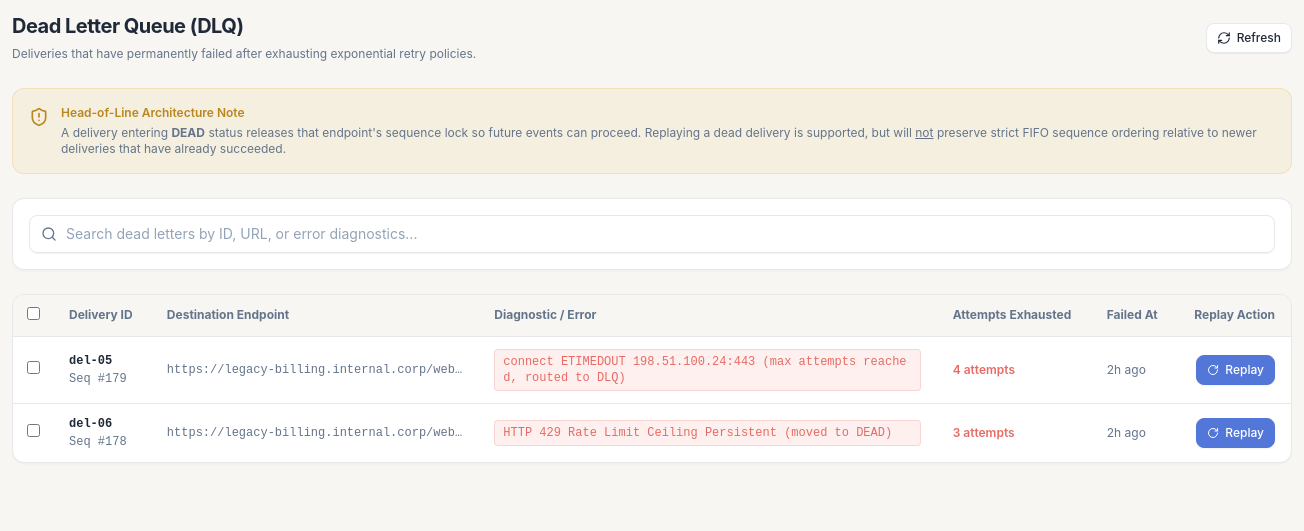
Phase 2, Task 1: Scheduling & Bulk Replay › 8. DeliveriesPage and DeadLettersPage Bulk Selection UI › renders DeadLettersPage and supports selecting all dead deliveries
The image size is (1304, 531).
Step 1. Click the checkbox named "Select all dead deliveries" → (33, 313), box [26,306,40,320]
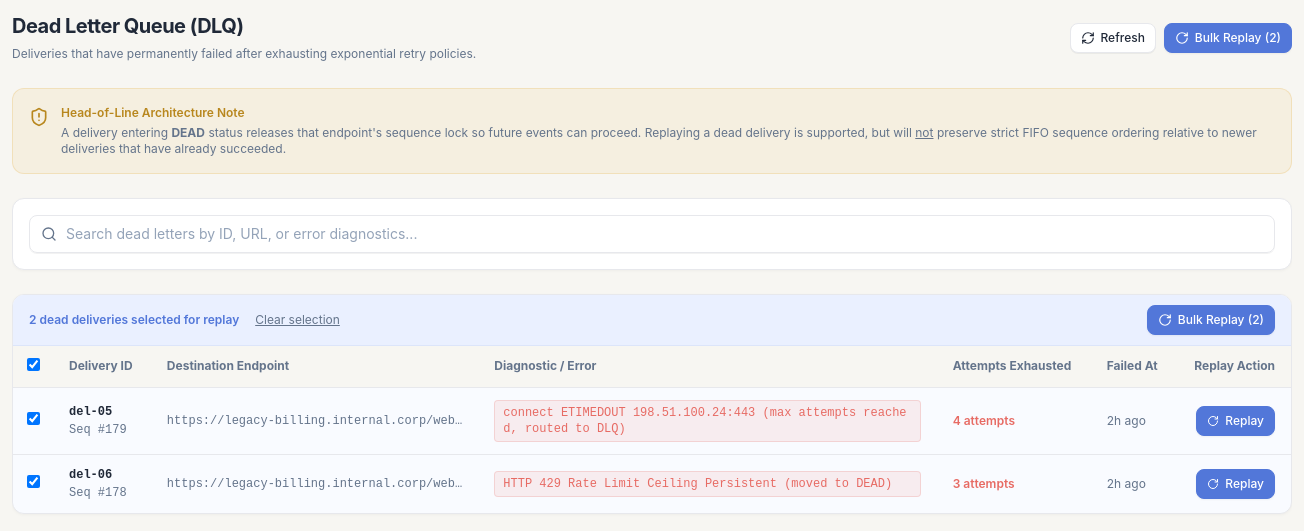
expect the text "2 dead deliveries selected for replay" is shown: met, box [29,312,239,328]
expect the button "Bulk Replay (2)" in the row of "Dead Letter Queue (DLQ)" is shown: met, box [1164,23,1292,53]
